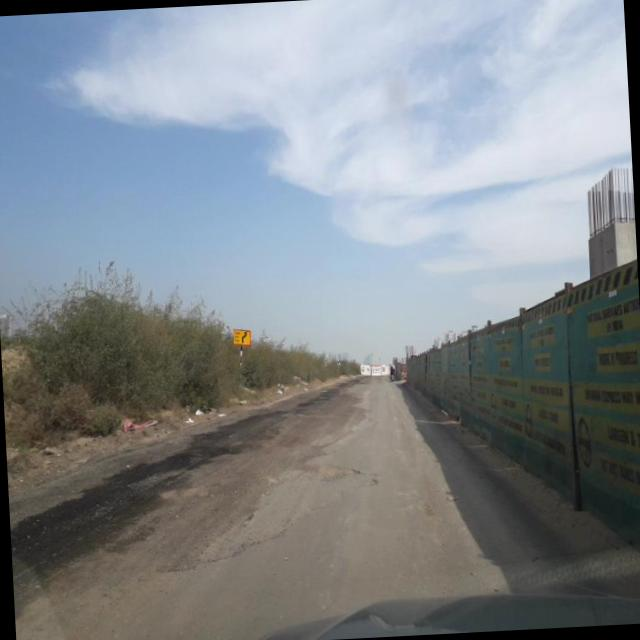pothole: (70, 452, 330, 568), (136, 470, 222, 506), (294, 454, 380, 488)
